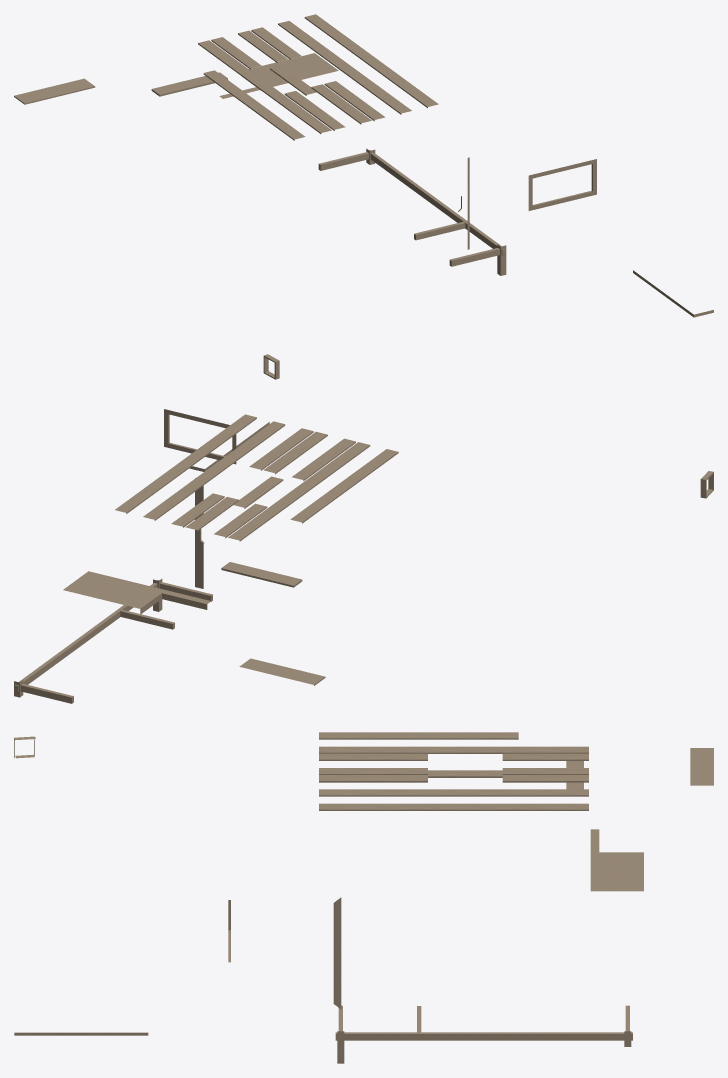
Rendered from kd_stage_135b75_4_15.glb.
3 views of the same model, one above another, from view 1: azimuth 30°, elevation 25°; view 2: azimuth 150°, elevation 25°; view 3: azimuth 270°, elevation 25° (orthographic). The views are drawn at different scales.
Visible parts, largest first — view 1: kd_stage_135b75_4_15; view 2: kd_stage_135b75_4_15; view 3: kd_stage_135b75_4_15.
Part boxes in pixels (<box>): kd_stage_135b75_4_15: <box>14,14,713,379</box>; kd_stage_135b75_4_15: <box>14,409,713,703</box>; kd_stage_135b75_4_15: <box>14,732,713,1063</box>.
Bounding box in the file's own units: 7.86 × 3.32 × 9.85.
Materials: 1 (1 with a texture image).
